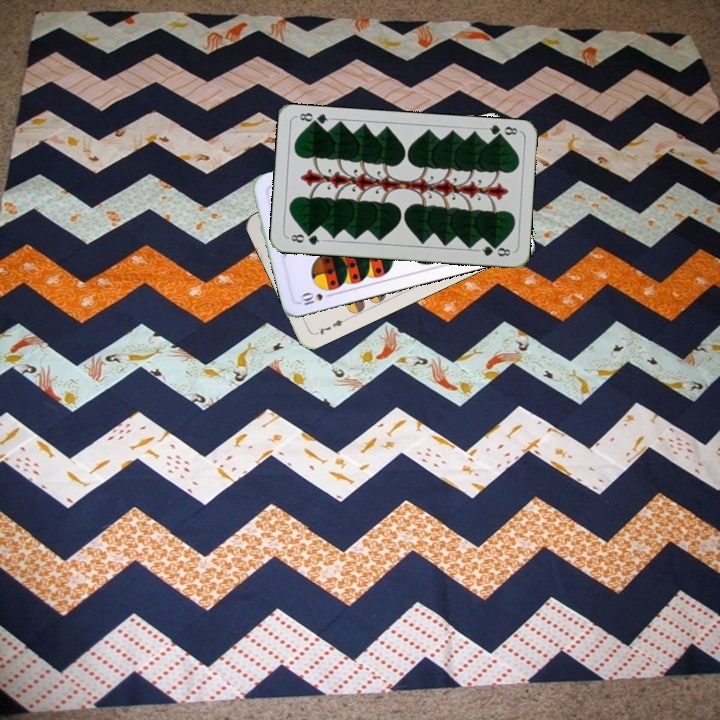E7: (311, 315, 350, 338)
G8: (481, 121, 520, 141), (285, 229, 325, 248)
S10: (296, 284, 336, 308)
